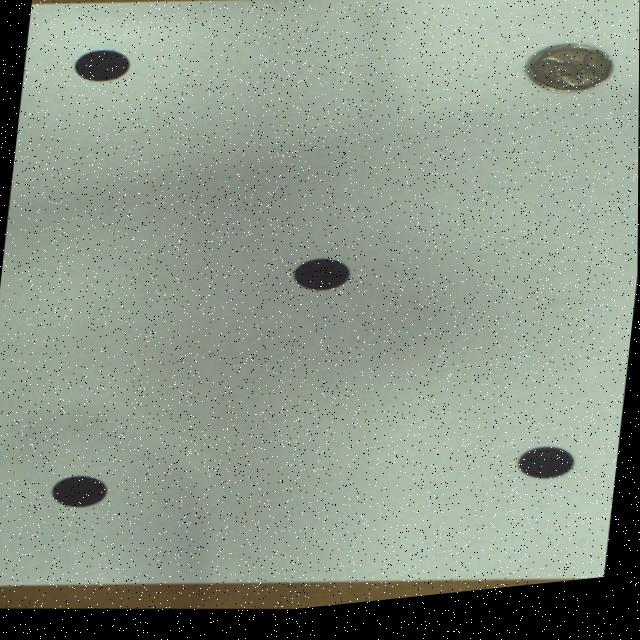head5bath: (525, 55, 611, 103)
space: (293, 264, 350, 296), (52, 476, 108, 508), (518, 458, 574, 489), (75, 51, 129, 82)
